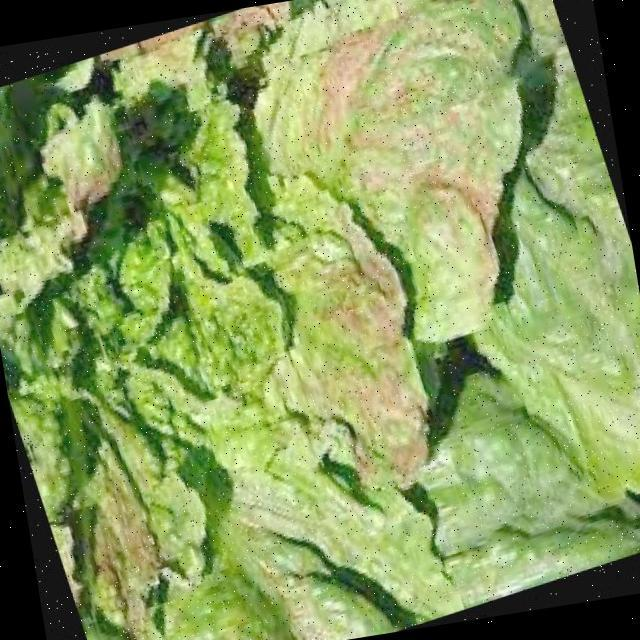Lettuce Mosaic Virus: (230, 0, 539, 322)
